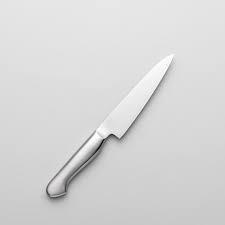Knife: (45, 53, 174, 198)
